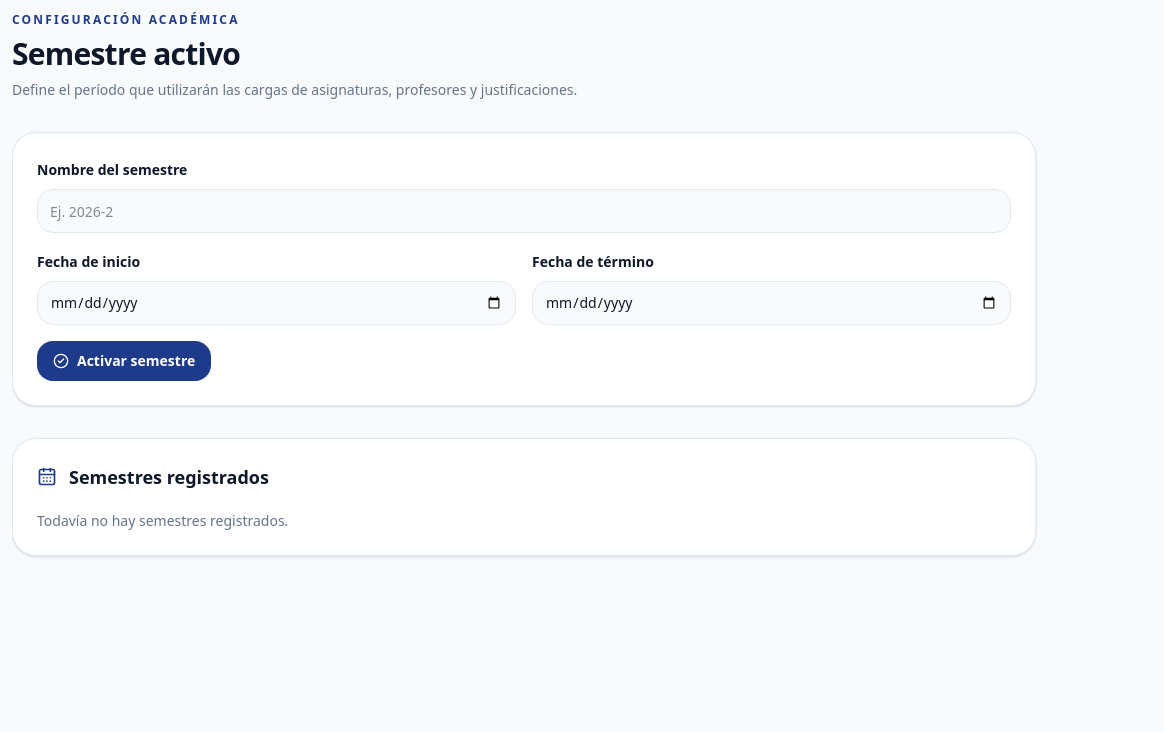
Test: SettingsPage (semestre activo) › activa un semestre y recarga la lista
Expected: the text "Todavía no hay semestres registrados." is shown, [37,511,288,530]
Type "2027-1" into the field labelled "Nombre del semestre".
click(524, 211); type("2027-1")  # box [37,189,1011,233]
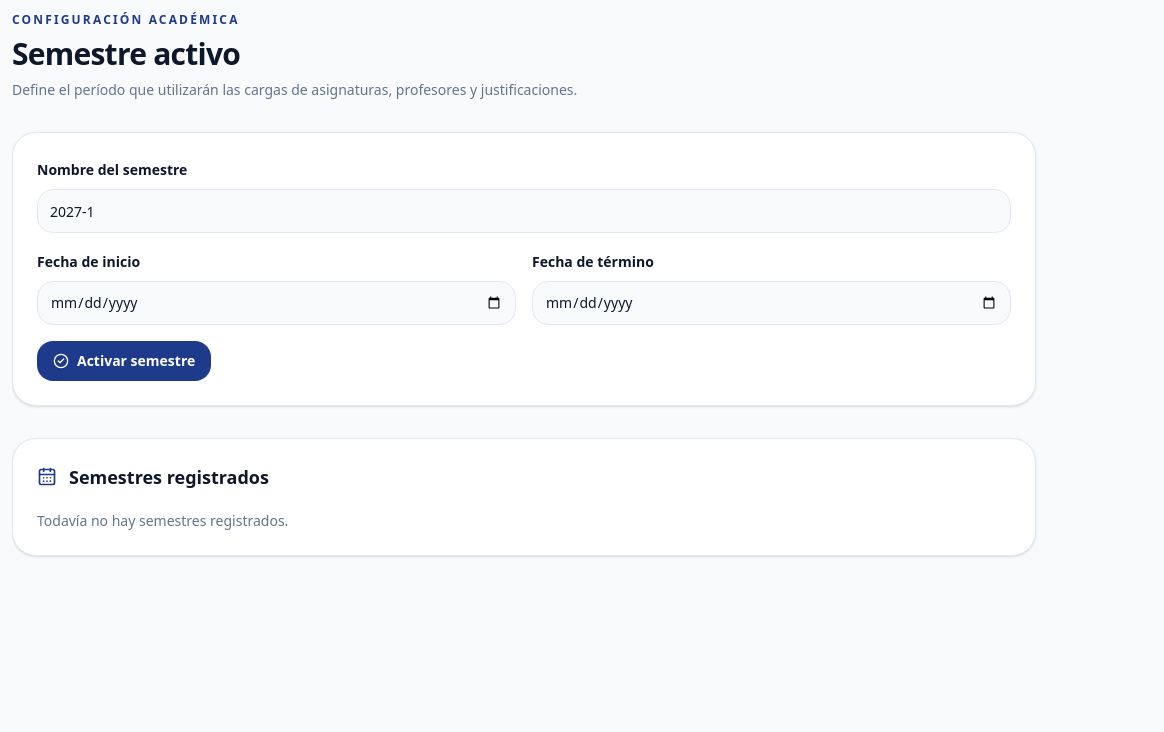
Type "2027-03-01" into the date field labelled "Fecha de inicio".
click(276, 303); type("2027-03-01")  # box [37,281,516,325]
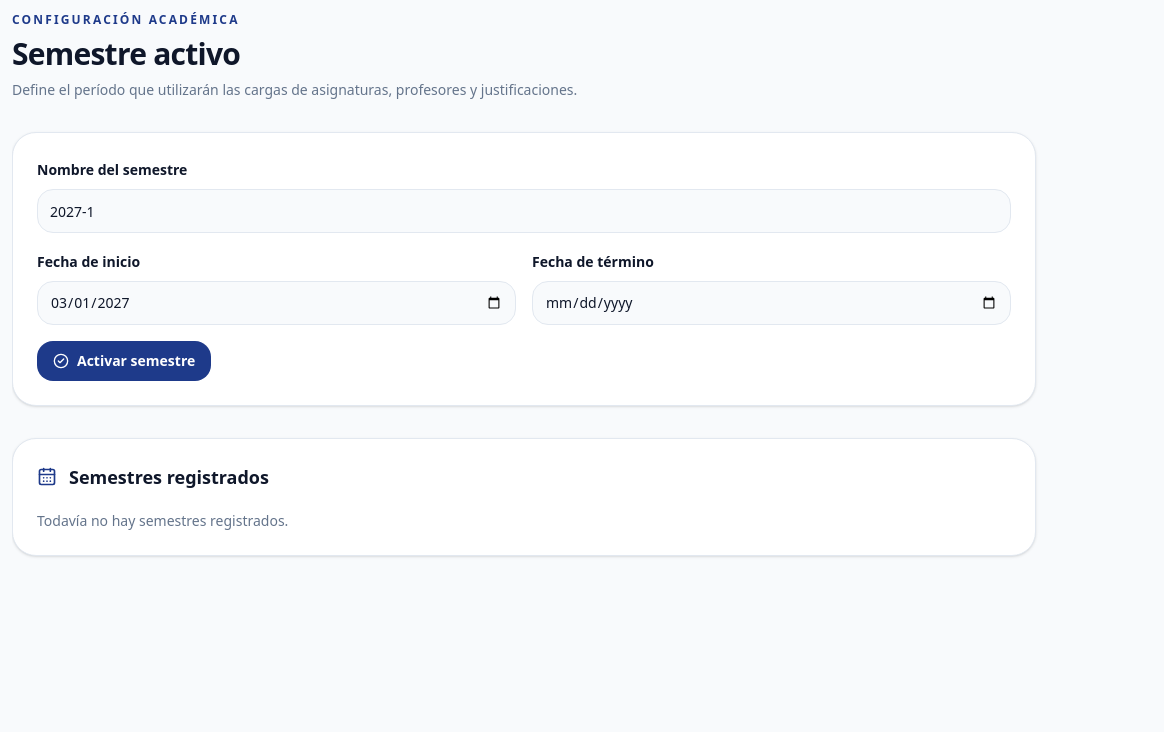
Type "2027-07-09" into the date field labelled "Fecha de término".
click(772, 303); type("2027-07-09")  # box [532,281,1011,325]
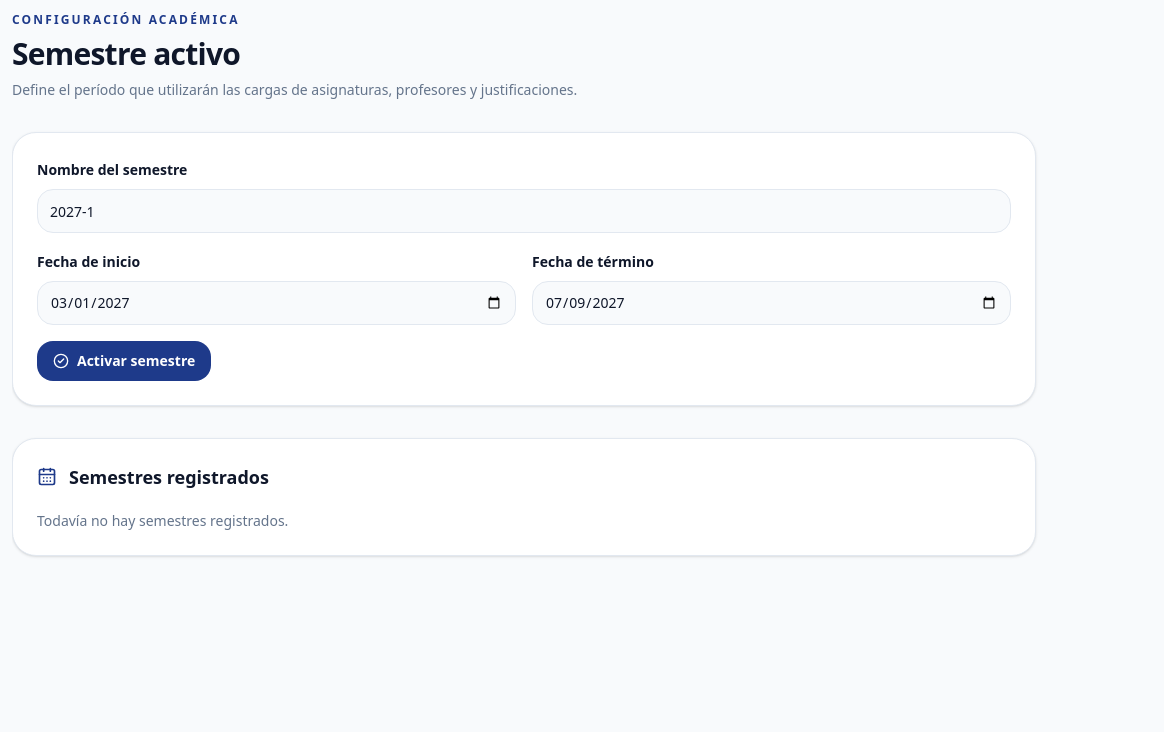
Click the button "Activar semestre".
click(124, 361)  # box [37,341,211,381]
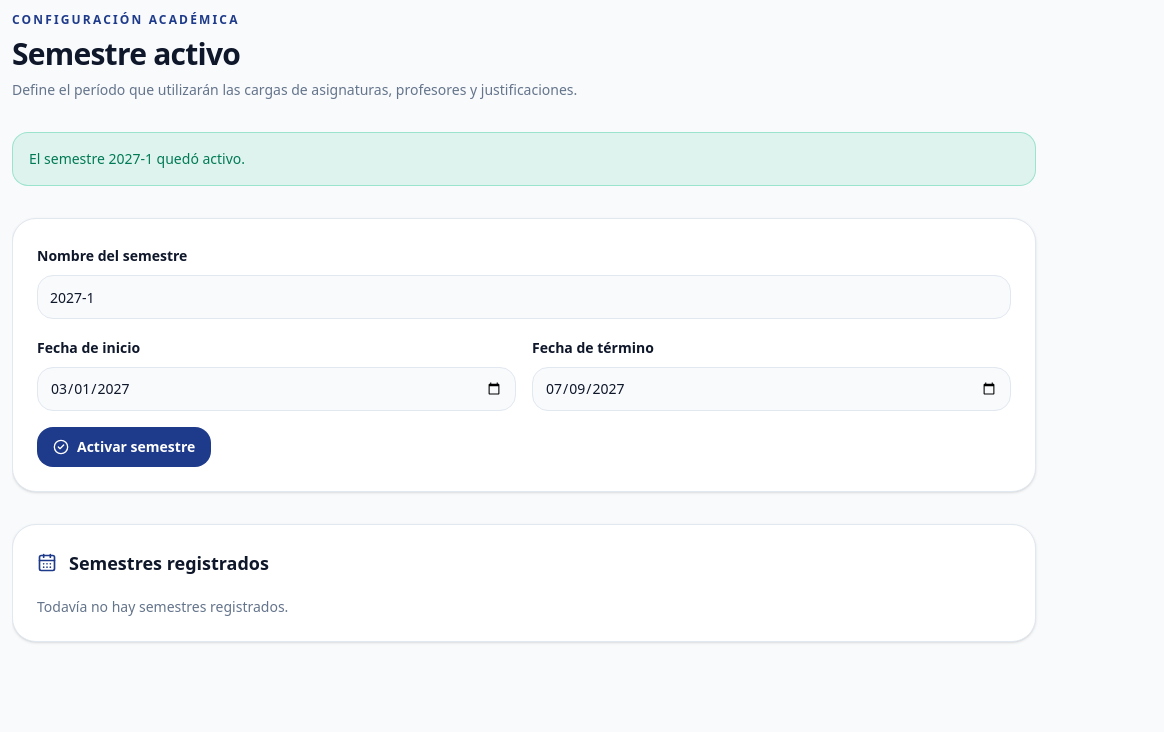
Expected: the text "El semestre 2027-1 quedó activo." is shown, [12,132,1036,186]
